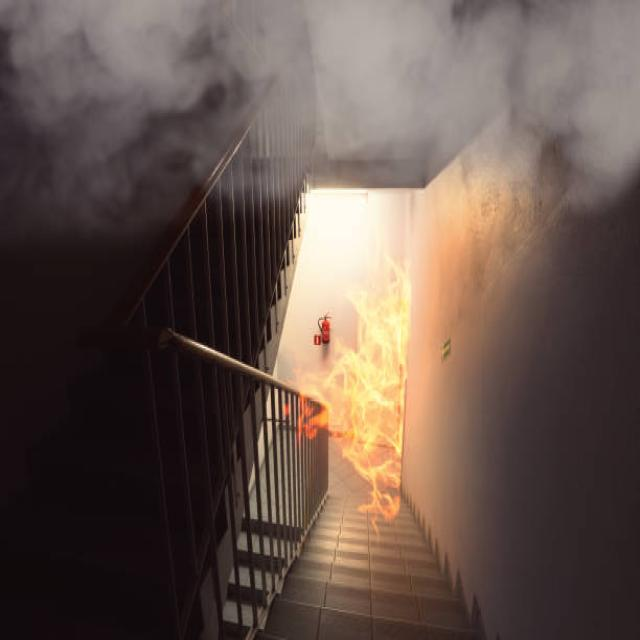fire: (303, 248, 434, 530)
